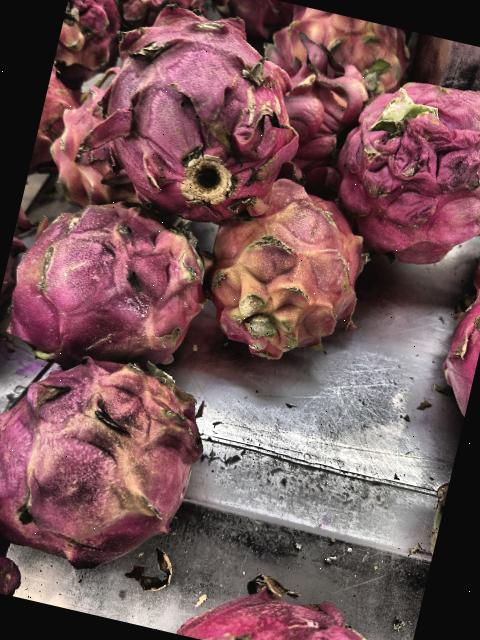buah-naga-belum-matang: (0, 335, 225, 579), (202, 176, 384, 365), (35, 80, 156, 210), (264, 0, 415, 82), (52, 0, 129, 80)
buah-naga-matang: (92, 6, 316, 230), (0, 188, 218, 362), (322, 62, 480, 279), (176, 523, 426, 640), (258, 43, 372, 196), (88, 0, 219, 34)
